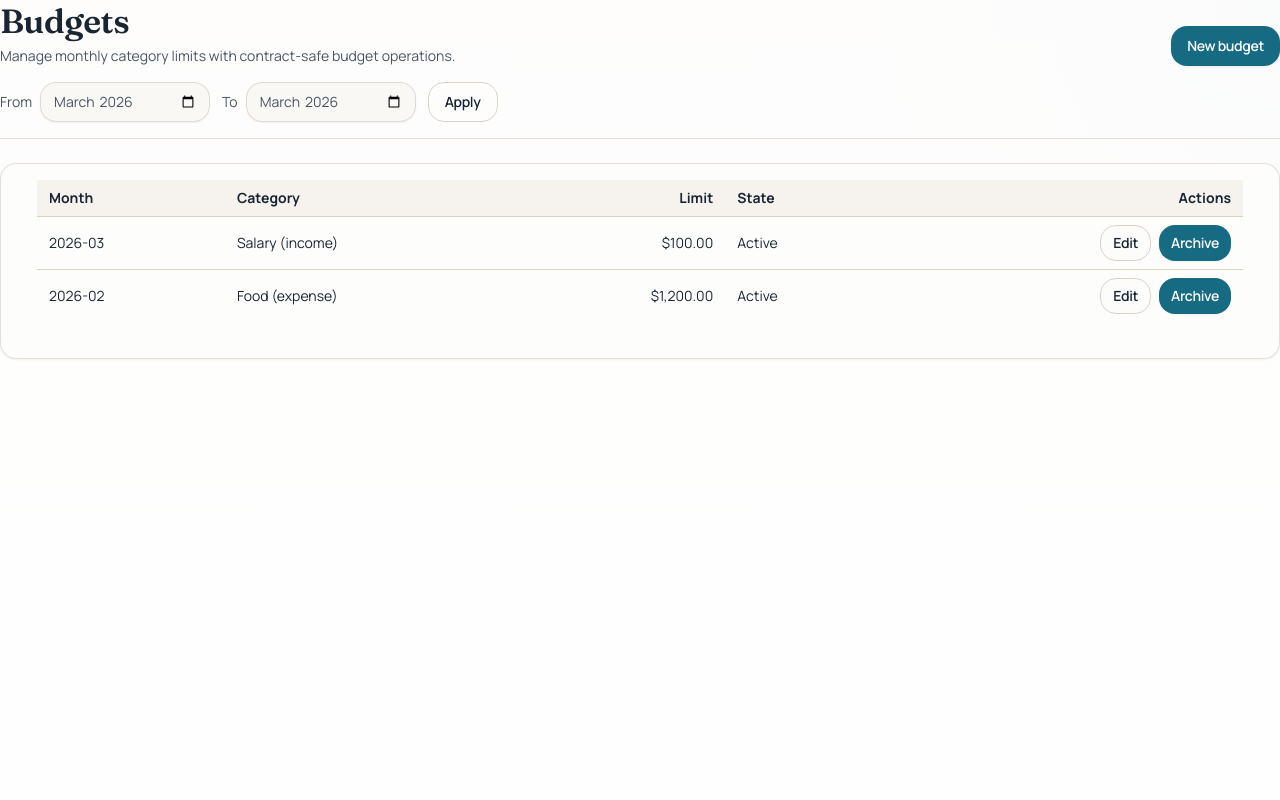
it: BudgetsPage › renders inline feedback for backend money-amount-* errors
The image size is (1280, 800).
Expected: the text "2026-03" is shown, [37,216,225,270]
Click the button "New budget" at (1226, 46), box [1171,26,1279,66]
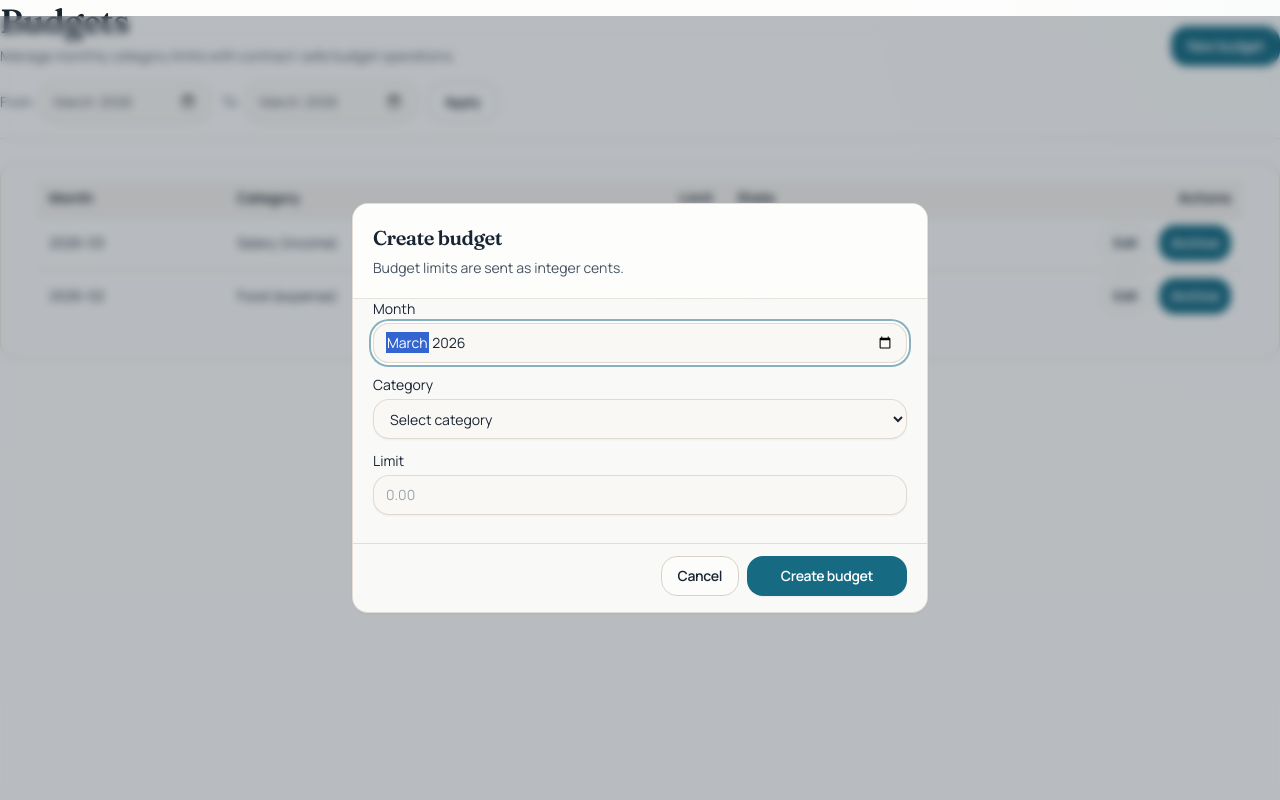
Select "Food (expense)" in the dropdown labelled "Category" at (640, 419), box [373,399,907,439]
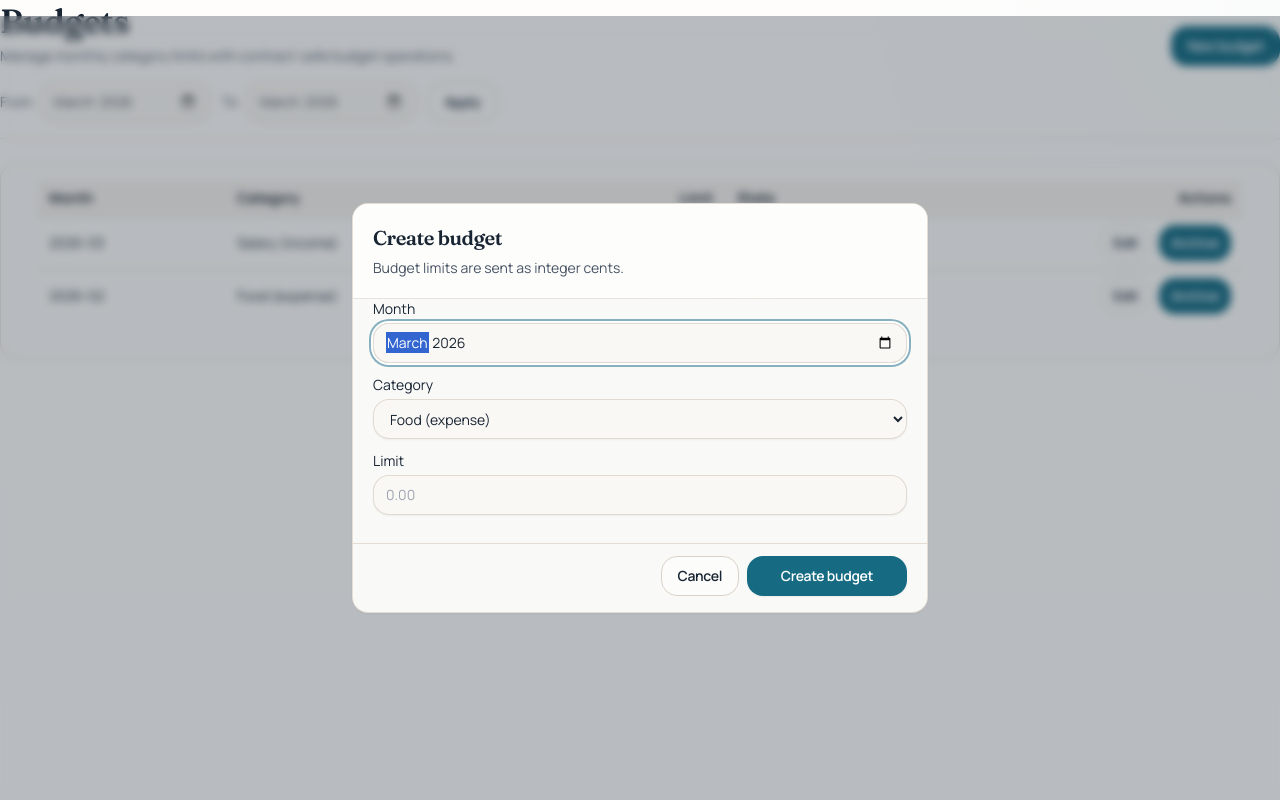
Type "100" into the field labelled "Limit" at (640, 495), box [373,475,907,515]
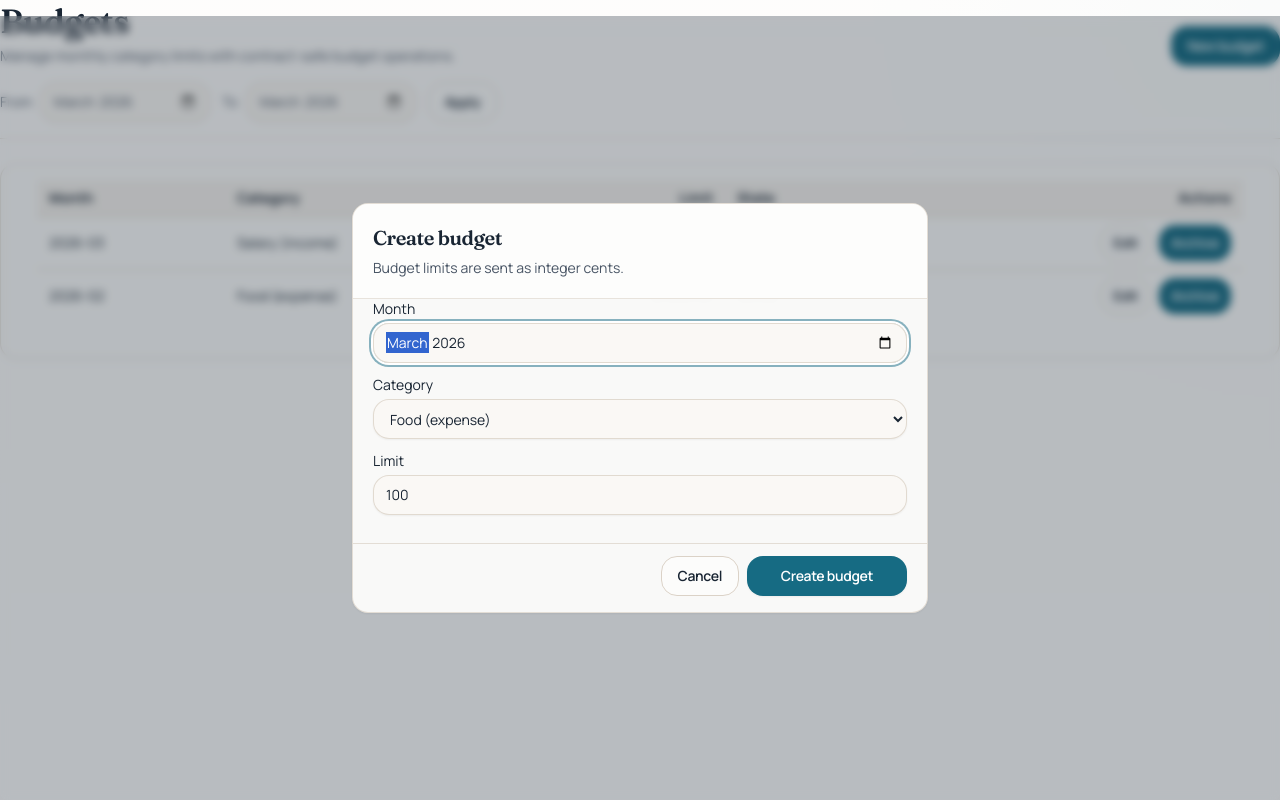
Click the button "Create budget" at (827, 576), box [747,556,907,596]
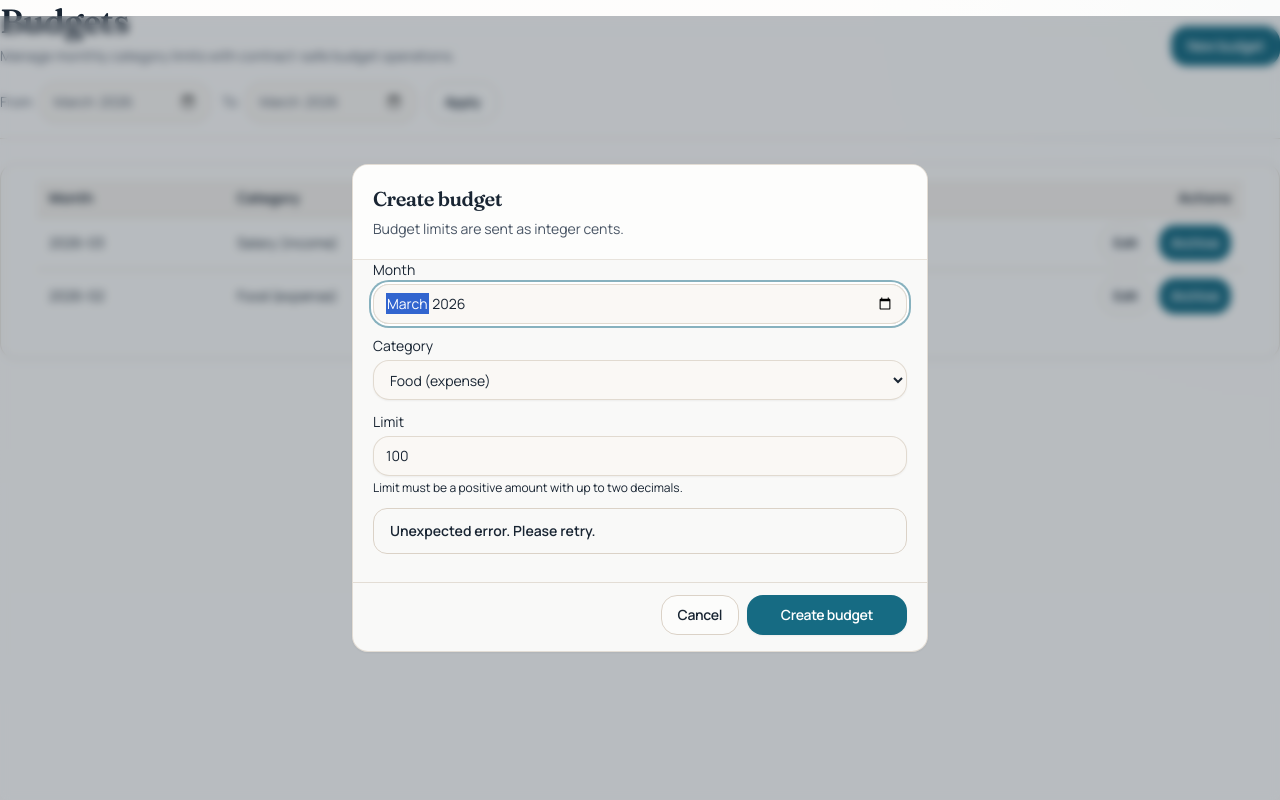
Expected: the text "Limit must be a positive amount with up to two decimals." is shown, [373,479,683,496]
